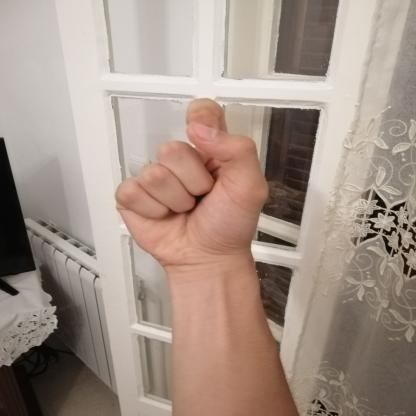FAA: (94, 89, 289, 276)
